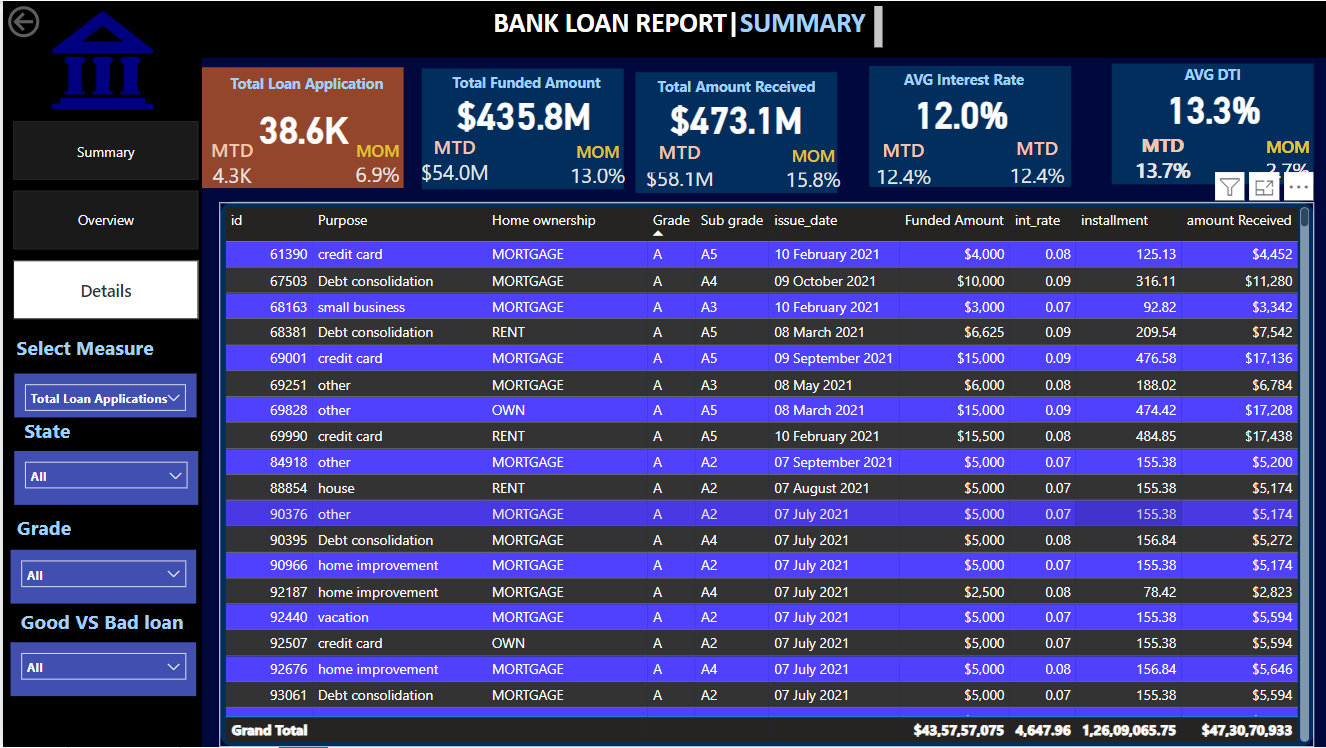

The page's visual inventory and layout, read from the dashboard file:
{"tool":"powerbi","page":{"name":"Details","canvas":[1280,720],"ordinal":2},"visuals":[{"type":"shape","box":[0,0,1280.3,54.9],"z":0},{"type":"shape","box":[1070.4,60.4,194.9,116.6],"z":0,"group":"g3"},{"type":"shape","box":[836.2,63.1,194.9,116.6],"z":0,"group":"g4"},{"type":"shape","box":[192.1,64.5,194.9,116.6],"z":0,"group":"g1"},{"type":"shape","box":[404.6,65.8,194.9,116.6],"z":0,"group":"g2"},{"type":"shape","box":[609.9,69.6,194.9,116.6],"z":0,"group":"g5"},{"type":"textbox","box":[467.9,0,385.6,54.9],"z":1000},{"type":"card","fields":{"Values":["bank_loan_data.AVG DTI"]},"box":[1097.3,54.2,144.1,97.4],"z":1000,"group":"g3"},{"type":"card","fields":{"Values":["bank_loan_data.Avg interest rate"]},"box":[853.1,59.4,144.1,97.4],"z":1000,"group":"g4"},{"type":"card","fields":{"Values":["bank_loan_data.Total Funded Amount"]},"box":[429.8,59.6,146.8,98.8],"z":1000,"group":"g2"},{"type":"card","fields":{"Values":["bank_loan_data.Total amount Received"]},"box":[634.9,64.5,144.1,97.4],"z":1000,"group":"g5"},{"type":"card","fields":{"Values":["bank_loan_data.Total Loan Applications"]},"box":[218.2,74.1,144.1,97.4],"z":1000,"group":"g1"},{"type":"textbox","box":[1055.8,57.1,223.7,37],"z":2000,"group":"g3"},{"type":"textbox","box":[815.7,61.6,223.7,37],"z":2000,"group":"g4"},{"type":"group","id":"g1","title":"Group 1","box":[192.1,64.5,207.2,116.6],"z":2000},{"type":"textbox","box":[393.9,64.6,223.7,37],"z":2000,"group":"g2"},{"type":"textbox","box":[193.3,65.2,200.3,41.2],"z":2000,"group":"g1"},{"type":"textbox","box":[595.5,68.6,223.7,37],"z":2000,"group":"g5"},{"type":"group","id":"g2","title":"Group 1","box":[393.9,59.6,223.7,122.9],"z":3000},{"type":"card","title":"MTD","fields":{"Values":["bank_loan_data.MTD avg DTI"]},"box":[1070.6,125.7,97.4,50.8],"z":3000,"group":"g6"},{"type":"card","title":"MTD","fields":{"Values":["bank_loan_data.MTD avg DTI"]},"box":[1070.9,125.7,97.4,50.8],"z":3000,"group":"g3"},{"type":"card","title":"MTD","fields":{"Values":["bank_loan_data.MTD Funded Amount"]},"box":[397.2,128.8,78.2,53.5],"z":3000,"group":"g2"},{"type":"card","title":"MTD","fields":{"Values":["bank_loan_data.MTD avg interest rate"]},"box":[829.8,130.2,78.2,49.4],"z":3000,"group":"g4"},{"type":"card","title":"MTD","fields":{"Values":["bank_loan_data.MTD loan Apllications"]},"box":[192.1,130.4,59,50.8],"z":3000,"group":"g1"},{"type":"group","id":"g3","title":"Group 1","box":[1055.8,54.2,223.7,122.8],"z":4000},{"type":"card","title":"MOM","fields":{"Values":["bank_loan_data.MOM avg Dti"]},"box":[1203.2,129,74.1,48],"z":4000,"group":"g6"},{"type":"card","title":"MOM","fields":{"Values":["bank_loan_data.MOM avg Dti"]},"box":[1203.5,129,74.1,48],"z":4000,"group":"g3"},{"type":"card","title":"MOM","fields":{"Values":["bank_loan_data.MOM Loan Apllication"]},"box":[325.2,133.1,74.1,48],"z":4000,"group":"g1"},{"type":"card","title":"MOM","fields":{"Values":["bank_loan_data.MOM Total Funded  amount"]},"box":[537.7,134.4,74.1,48],"z":4000,"group":"g2"},{"type":"card","title":"MOM","fields":{"Values":["bank_loan_data.MOM Total amount received"]},"box":[739.7,138.5,82.3,48],"z":4000,"group":"g5"},{"type":"group","id":"g4","title":"Group 1","box":[815.7,59.4,223.7,120.3],"z":5000},{"type":"shape","box":[0,54.5,192,665.5],"z":6000},{"type":"group","id":"g5","title":"Group 1","box":[595.5,64.5,226.6,122.1],"z":7000},{"type":"card","title":"MTD","fields":{"Values":["bank_loan_data.MTD avg interest rate"]},"box":[959.2,129,78.2,49.4],"z":8000},{"type":"group","id":"g6","title":"Group 1","box":[1070.6,125.7,206.7,51.3],"z":9000},{"type":"slicer","fields":{"Values":["bank_loan_data.address_state"]},"box":[10.3,434.5,177.6,51.7],"z":10000},{"type":"textbox","box":[0,317.2,158.6,37.9],"z":11000},{"type":"slicer","fields":{"Values":["bank_loan_data.Good vs Bad loan"]},"box":[6.9,619,179.3,51.7],"z":12000},{"type":"slicer","fields":{"Values":["bank_loan_data.grade"]},"box":[6.9,529.3,179.3,51.7],"z":13000},{"type":"textbox","box":[0,491.4,79.3,37.9],"z":14000},{"type":"textbox","box":[0,581,191.4,37.9],"z":15000},{"type":"shape","box":[208.6,193.1,1056.9,527.6],"z":16000},{"type":"slicer","fields":{"Values":["Select measure.Select measure"]},"box":[11,359.5,175.6,42.5],"z":17000},{"type":"textbox","box":[10.3,396.6,63.8,37.9],"z":18000},{"type":"tableEx","fields":{"Values":["bank_loan_data.id","bank_loan_data.purpose","bank_loan_data.home_ownership","bank_loan_data.grade","bank_loan_data.sub_grade","bank_loan_data.issue_date","bank_loan_data.Total Funded Amount","Sum(bank_loan_data.int_rate)","Sum(bank_loan_data.installment)","bank_loan_data.Total amount Received"]},"box":[209.2,193.8,1056.9,526.2],"z":19000},{"type":"actionButton","box":[0,0,100,40],"z":20000},{"type":"card","title":"MTD","fields":{"Values":["bank_loan_data.MTD Totla Amount  Received"]},"box":[608.5,133.8,87.8,49.4],"z":20000,"group":"g5"},{"type":"pageNavigator","box":[9.6,115.3,179.8,192.1],"z":21000},{"type":"image","box":[42.5,2.7,108.4,109.8],"z":22000}]}

Visuals, with their boxes on the page's 1280x720 design canvas (x1, y1, x2, y2). These are canvas units, not pixel positions in the 1326x748 screenshot, which may show the page scaled, cropped or inside an application window:
shape: locate(0, 0, 1280, 55)
shape: locate(1070, 60, 1265, 177)
shape: locate(836, 63, 1031, 180)
shape: locate(192, 64, 387, 181)
shape: locate(405, 66, 600, 182)
shape: locate(610, 70, 805, 186)
textbox: locate(468, 0, 854, 55)
card - bank_loan_data.AVG DTI: locate(1097, 54, 1241, 152)
card - bank_loan_data.Avg interest rate: locate(853, 59, 997, 157)
card - bank_loan_data.Total Funded Amount: locate(430, 60, 577, 158)
card - bank_loan_data.Total amount Received: locate(635, 64, 779, 162)
card - bank_loan_data.Total Loan Applications: locate(218, 74, 362, 172)
textbox: locate(1056, 57, 1280, 94)
textbox: locate(816, 62, 1039, 99)
"Group 1" group: locate(192, 64, 399, 181)
textbox: locate(394, 65, 618, 102)
textbox: locate(193, 65, 394, 106)
textbox: locate(596, 69, 819, 106)
"Group 1" group: locate(394, 60, 618, 182)
"MTD" card: locate(1071, 126, 1168, 176)
"MTD" card: locate(1071, 126, 1168, 176)
"MTD" card: locate(397, 129, 475, 182)
"MTD" card: locate(830, 130, 908, 180)
"MTD" card: locate(192, 130, 251, 181)
"Group 1" group: locate(1056, 54, 1280, 177)
"MOM" card: locate(1203, 129, 1277, 177)
"MOM" card: locate(1204, 129, 1278, 177)
"MOM" card: locate(325, 133, 399, 181)
"MOM" card: locate(538, 134, 612, 182)
"MOM" card: locate(740, 138, 822, 186)
"Group 1" group: locate(816, 59, 1039, 180)
shape: locate(0, 54, 192, 720)
"Group 1" group: locate(596, 64, 822, 187)
"MTD" card: locate(959, 129, 1037, 178)
"Group 1" group: locate(1071, 126, 1277, 177)
slicer - bank_loan_data.address_state: locate(10, 434, 188, 486)
textbox: locate(0, 317, 159, 355)
slicer - bank_loan_data.Good vs Bad loan: locate(7, 619, 186, 671)
slicer - bank_loan_data.grade: locate(7, 529, 186, 581)
textbox: locate(0, 491, 79, 529)
textbox: locate(0, 581, 191, 619)
shape: locate(209, 193, 1266, 721)
slicer - Select measure.Select measure: locate(11, 360, 187, 402)
textbox: locate(10, 397, 74, 434)
tableEx - bank_loan_data.id x bank_loan_data.purpose: locate(209, 194, 1266, 720)
actionButton: locate(0, 0, 100, 40)
"MTD" card: locate(608, 134, 696, 183)
pageNavigator: locate(10, 115, 189, 307)
image: locate(42, 3, 151, 112)
